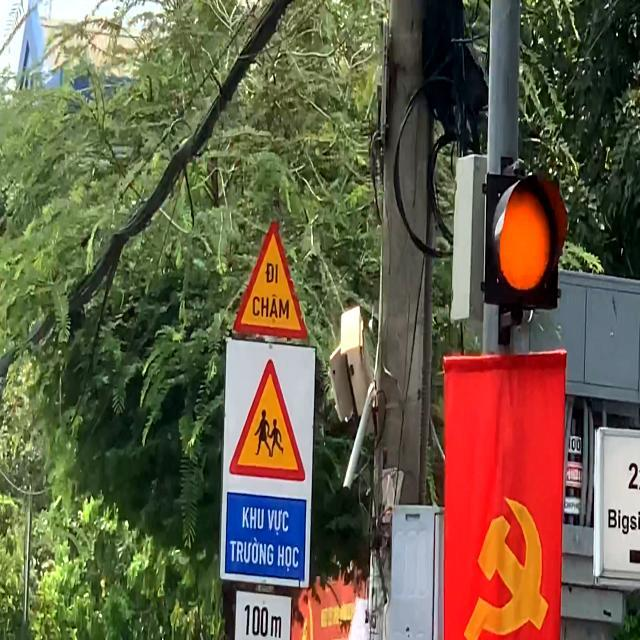W-225: (229, 359, 309, 483)
W-245a: (231, 219, 308, 338)
